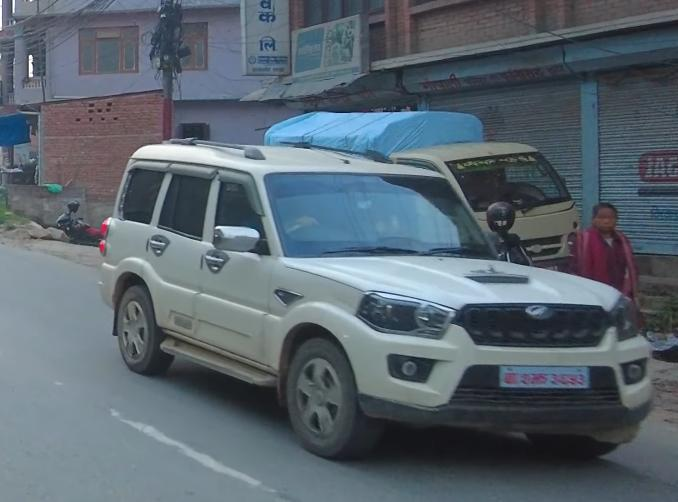SUV: (93, 133, 656, 466)
